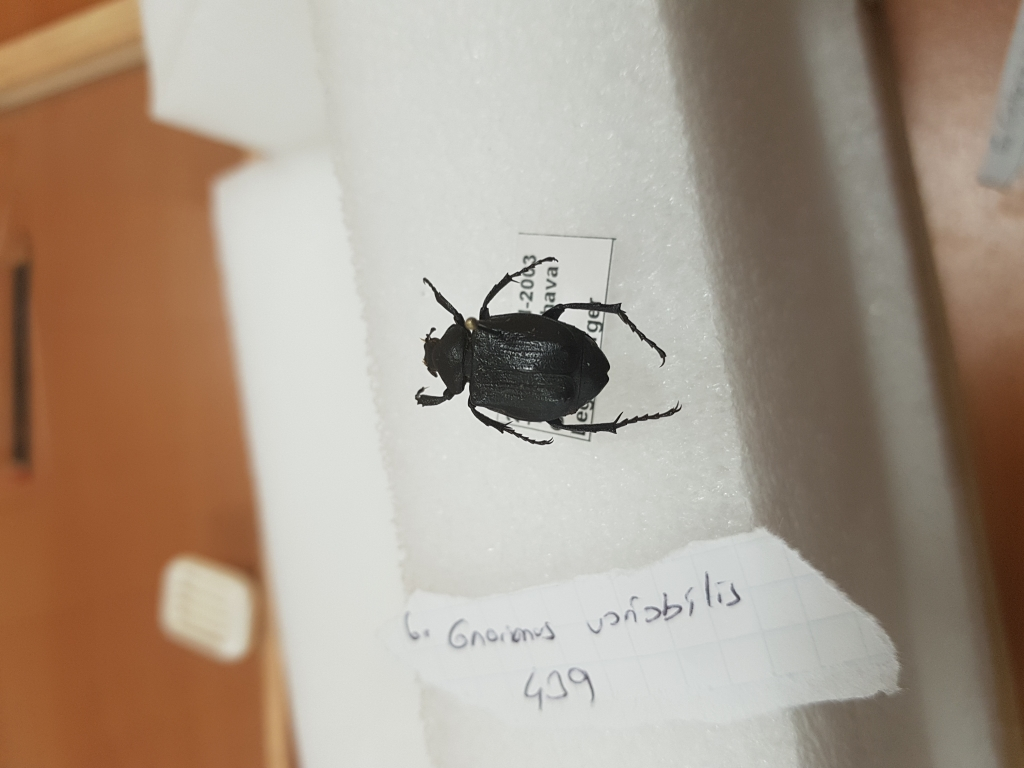Gnorimus_variabilis: (408, 246, 683, 445)
